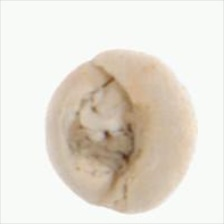L3: (72, 76, 142, 180)
L4: (45, 48, 196, 214)
